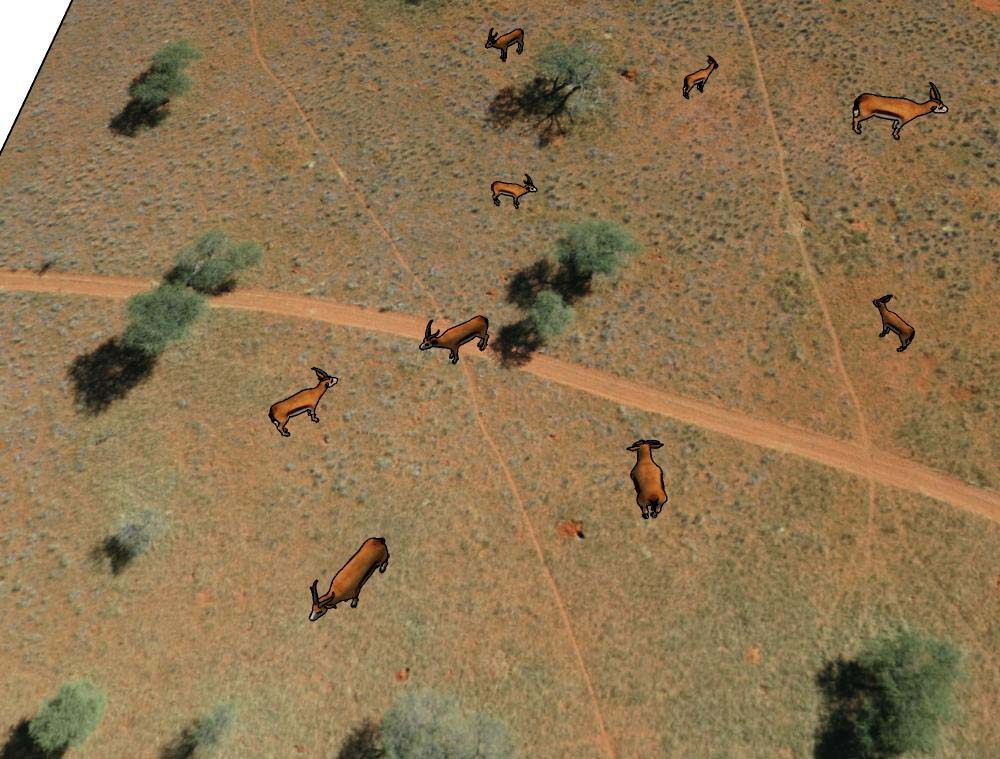springbok: (301, 531, 398, 622), (840, 82, 950, 147), (266, 362, 344, 436), (622, 436, 674, 523), (865, 281, 920, 356), (416, 316, 491, 369), (485, 170, 544, 210), (479, 25, 530, 65), (677, 55, 722, 96)
